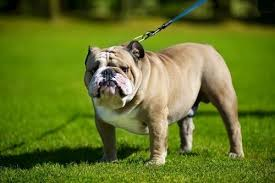Bulldog: (66, 26, 265, 168)
